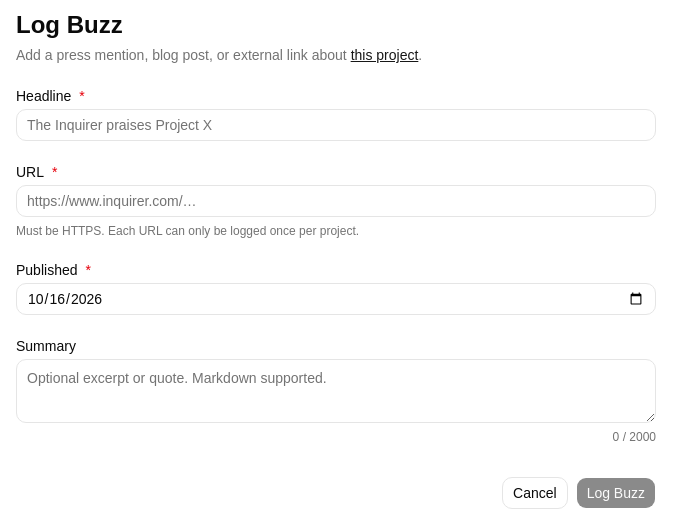
it: ProjectBuzzNew › signed-in › enables submit once headline + url are filled
The image size is (673, 526).
Type "Hello" into the field labelled "Headline *".
click(336, 125); type("Hello")  # box [16,109,656,141]
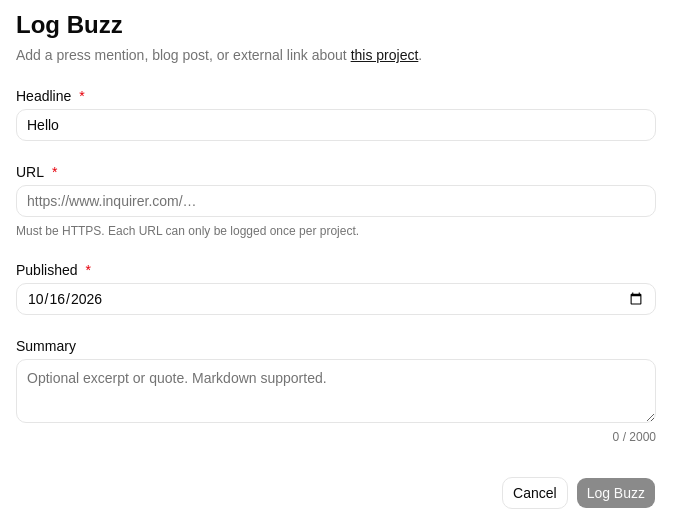
Type "https://example.com" into the field labelled "URL *".
click(336, 201); type("https://example.com")  # box [16,185,656,217]
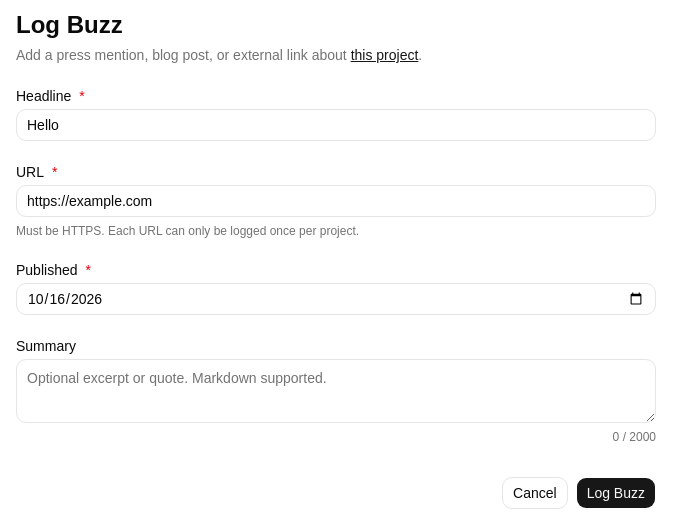
Now the button "Log Buzz" is enabled, box [576,477,656,509]
